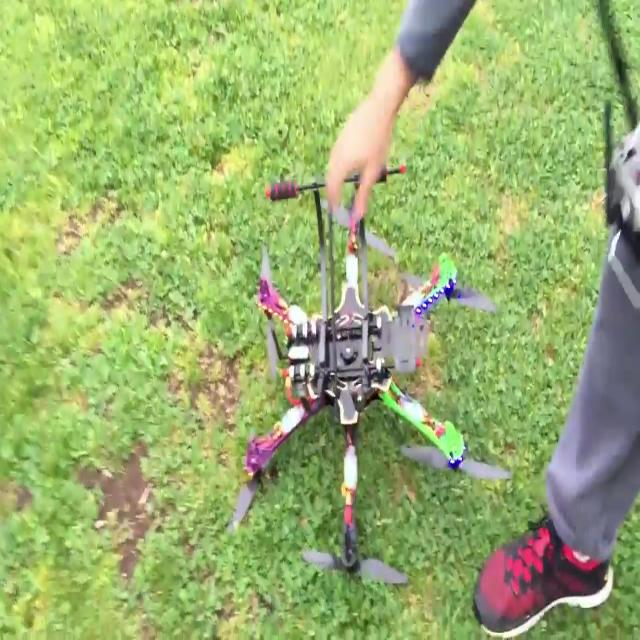drone: (212, 191, 488, 575)
